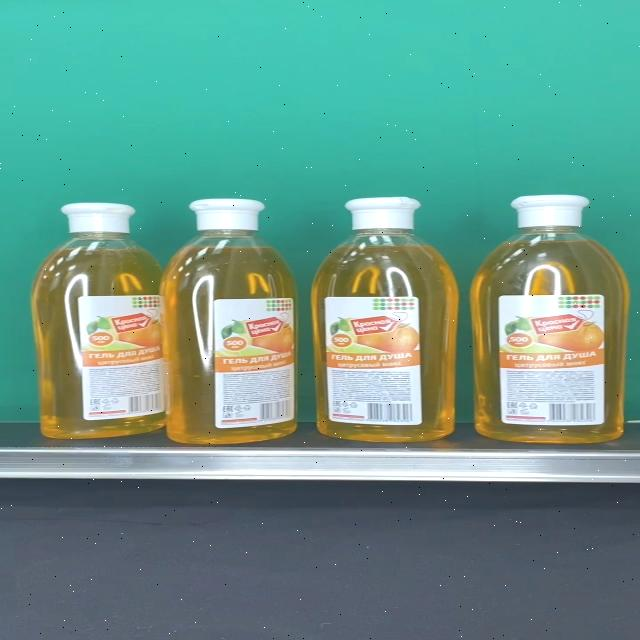Bottle: (470, 194, 629, 444), (311, 197, 459, 443), (160, 199, 297, 445), (33, 202, 166, 439)
Cap: (510, 195, 590, 228), (188, 200, 264, 232), (345, 198, 420, 230), (60, 203, 136, 233)
